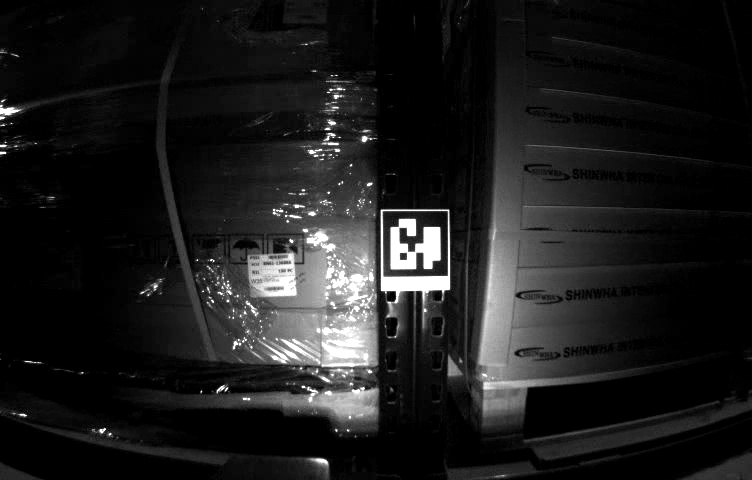True Barcode: (245, 252, 298, 298)
